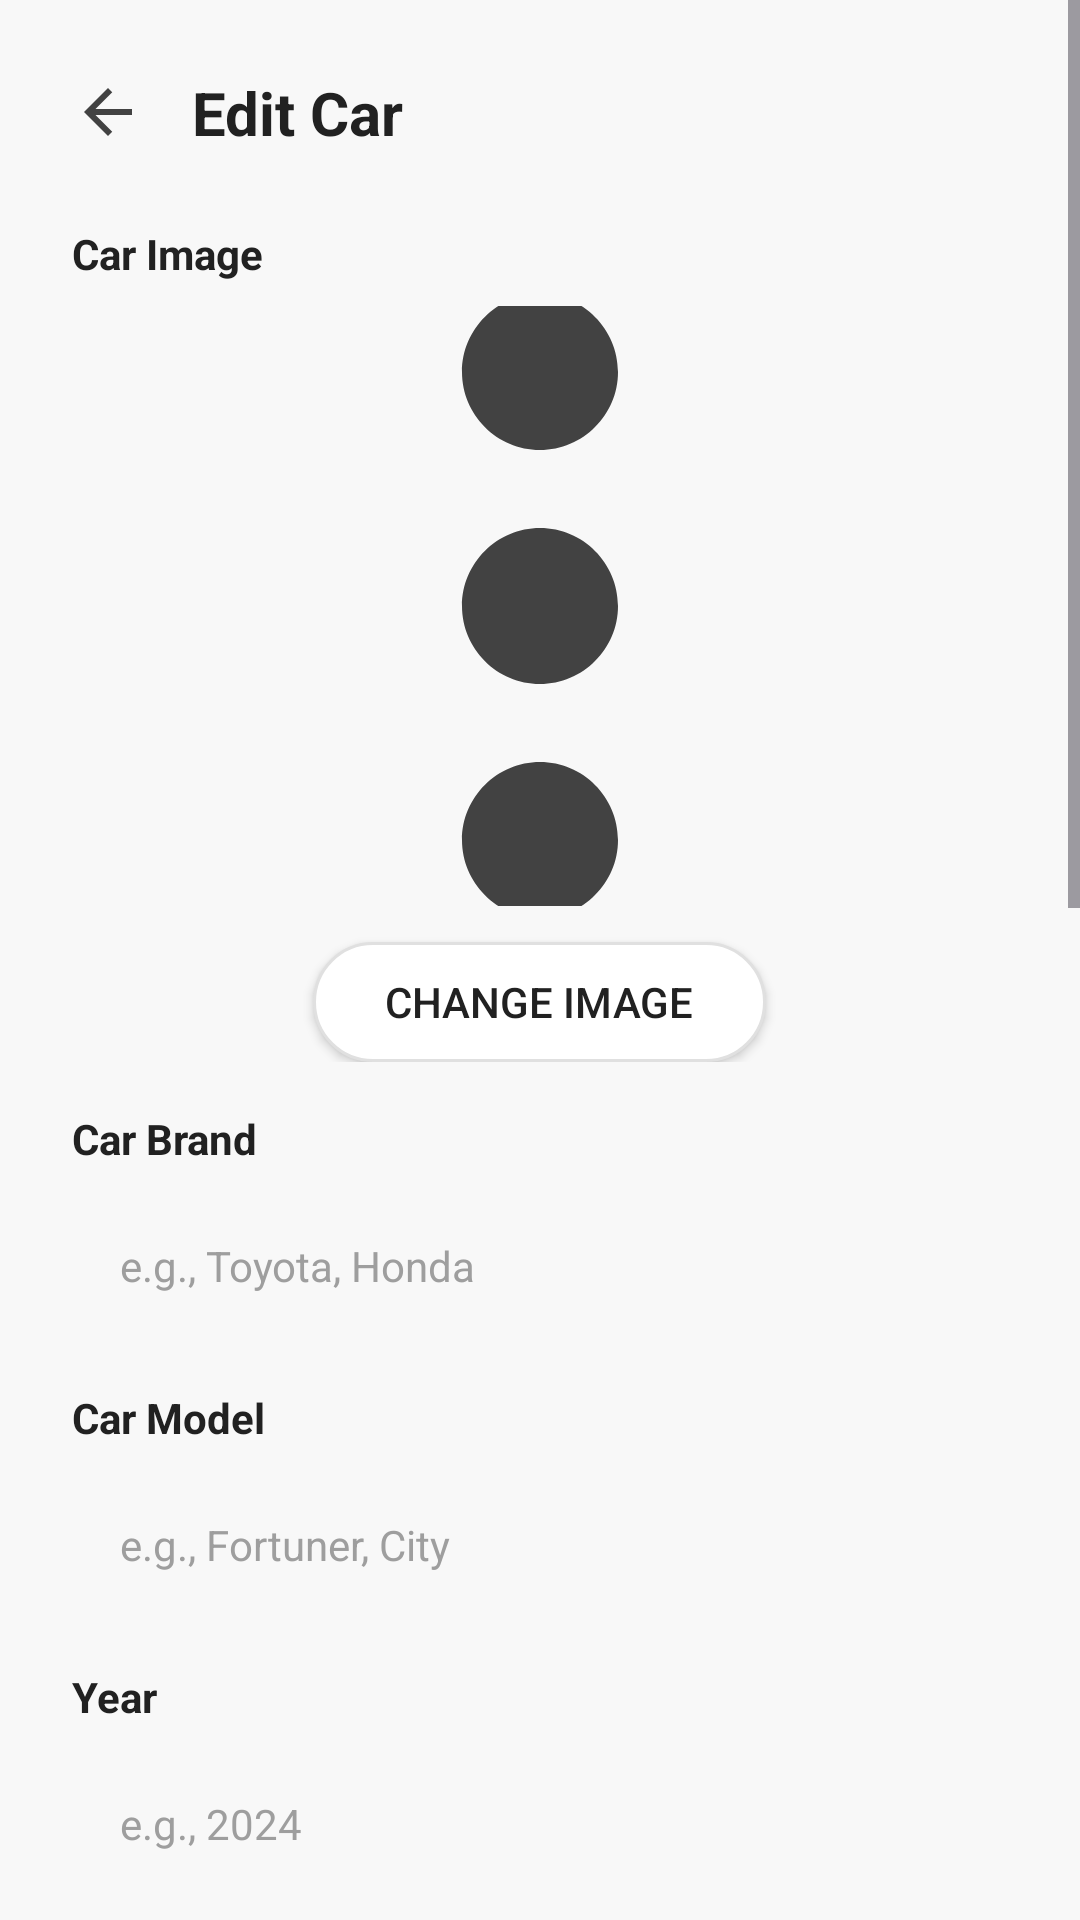

Where to tap for icons on this 1080x1920 app screen, as (x=x, y=y):
Back: (x=108, y=112)
